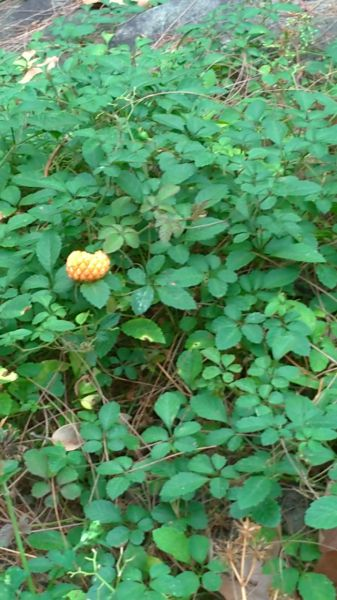eggs: (61, 243, 115, 286)
